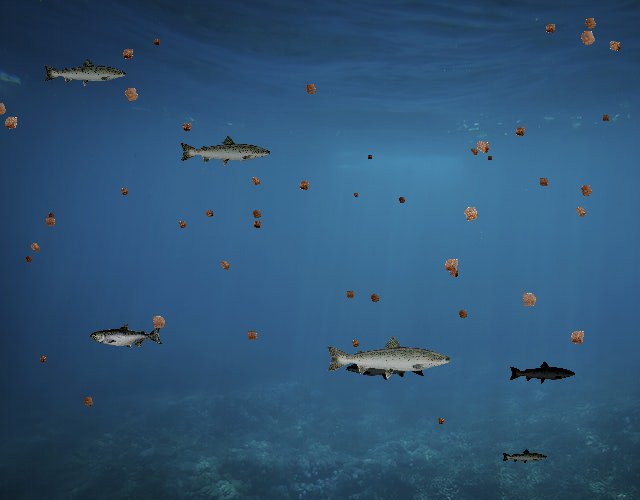Fish: (324, 334, 453, 380), (178, 135, 272, 168), (42, 57, 128, 88), (346, 353, 427, 382), (90, 324, 163, 350), (509, 360, 577, 385), (502, 448, 549, 465)
Pellet: (437, 251, 466, 280), (563, 323, 591, 351), (469, 134, 496, 161), (574, 179, 598, 203), (294, 175, 315, 196), (453, 305, 472, 324), (36, 352, 50, 366)
